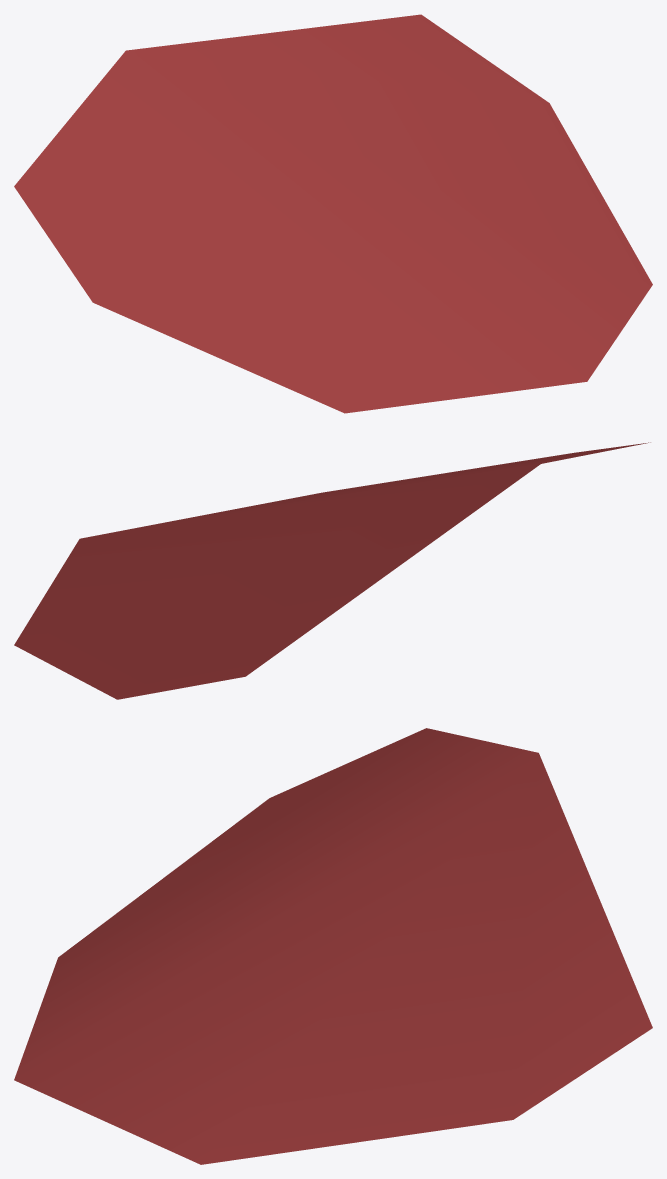
The model's file is extensor-digitorum-longus-e3l.glb.
3 views of the same model, one above another, from view 1: azimuth 30°, elevation 25°; view 2: azimuth 210°, elevation 25°; view 3: azimuth 270°, elevation 25° (orthographic). The views are drawn at different scales.
Visible parts, largest first — view 1: Extensor digitorum longus.e3l; view 2: Extensor digitorum longus.e3l; view 3: Extensor digitorum longus.e3l.
Part boxes in pixels (x1,y1,x2,y2): Extensor digitorum longus.e3l: (14, 14, 652, 413); Extensor digitorum longus.e3l: (14, 442, 650, 699); Extensor digitorum longus.e3l: (14, 728, 652, 1164).
Size of the model in its own units: 0.003 by 0.00103 by 0.00271.
